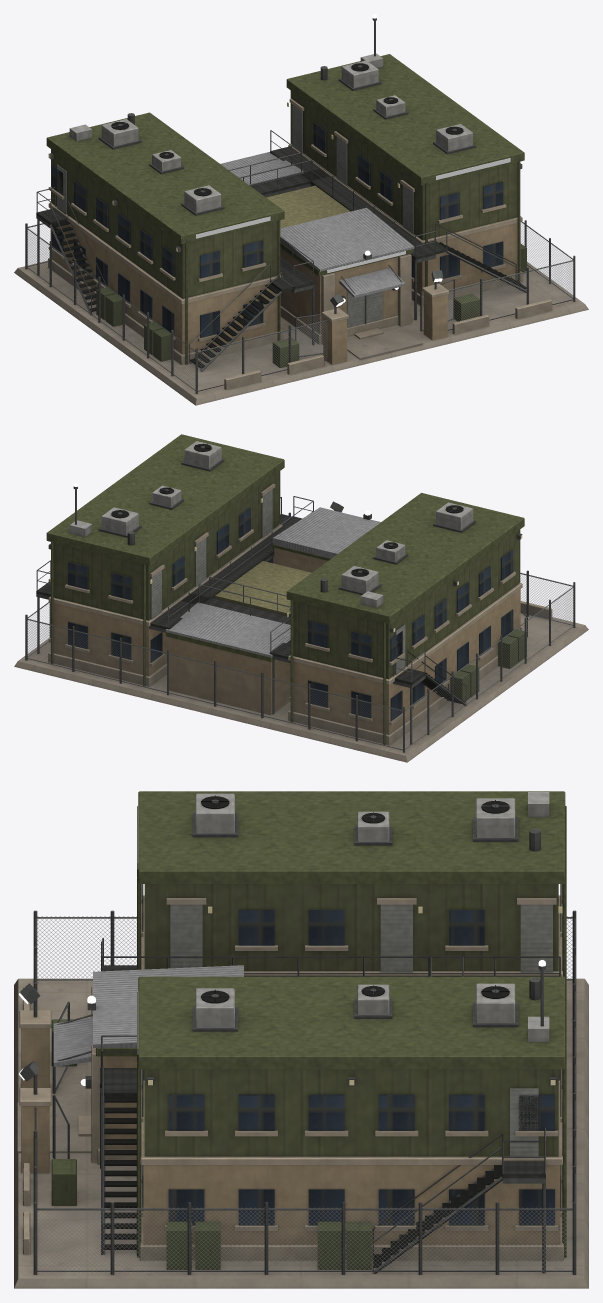
File: barracks.glb
The picture shows the model from 3 angles, top to bottom: view 1: azimuth 30°, elevation 25°; view 2: azimuth 150°, elevation 25°; view 3: azimuth 270°, elevation 25°; orthographic projection. The views are drawn at different scales.
Visible parts, largest first — view 1: Building, Props; view 2: Building, Props; view 3: Building, Props.
Part boxes in pixels (x1,y1,x2,y2): Building: (14,18,588,405); Props: (25,185,575,393); Building: (14,434,588,762); Props: (25,501,575,752); Building: (14,791,588,1288); Props: (19,910,576,1274).
Size of the model in its own units: 20 by 8.97 by 16.
9 materials, 2 textured.
